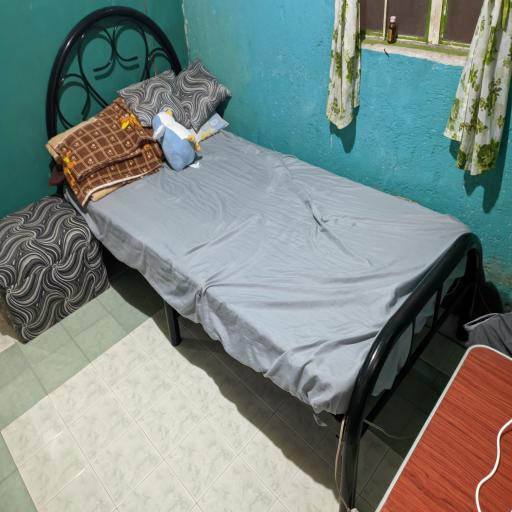person: (65, 132, 481, 506)
stroller: (378, 346, 511, 511)
